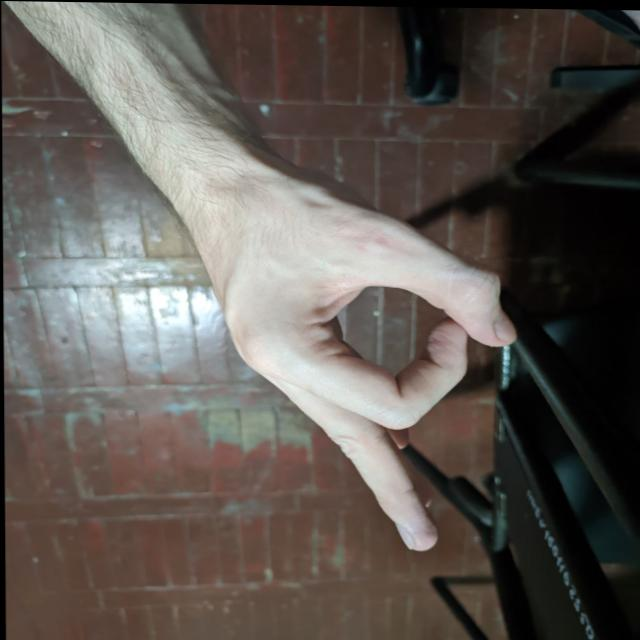o: (186, 149, 493, 557)
